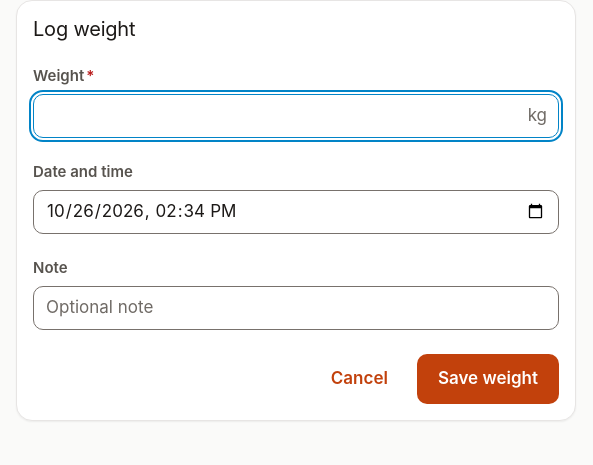
prompts for a value when the field is empty (WT-4)
Click the button "Save weight". click: (488, 379)
box: [417, 354, 559, 404]
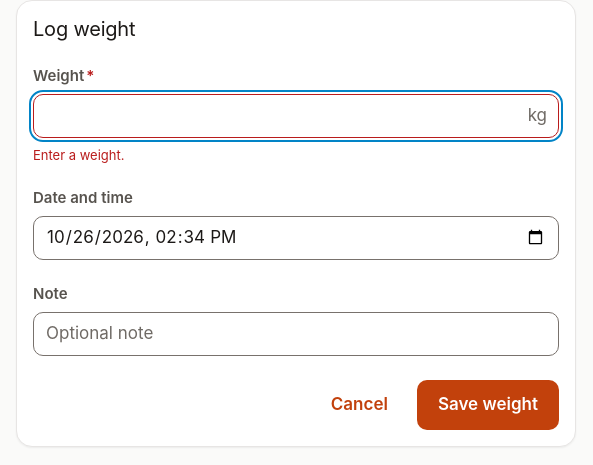
Now the text "Enter a weight." is shown, box [33, 147, 124, 163]
